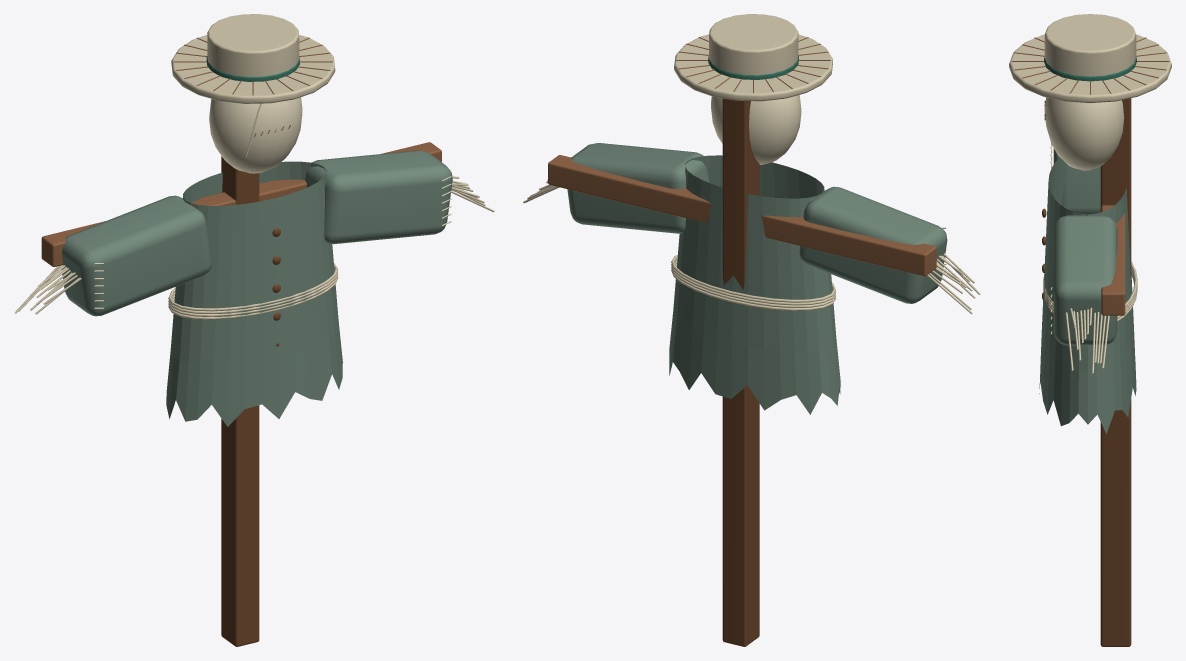
The model's file is FieldScarecrow.fbx.
3 views of the same model, side by side, from view 1: azimuth 30°, elevation 25°; view 2: azimuth 150°, elevation 25°; view 3: azimuth 270°, elevation 25° (orthographic). The views are drawn at different scales.
Parts seen in each view (by area): view 1: Scarecrow / empty green coat, Scarecrow / folded coat sleeve, Scarecrow / folded coat sleeve.001, Scarecrow / weathered upright, Scarecrow / stuffed linen head, Scarecrow / straw hat brim, Scarecrow / hat crown, Scarecrow / timber crossarm; view 2: Scarecrow / empty green coat, Scarecrow / weathered upright, Scarecrow / timber crossarm, Scarecrow / folded coat sleeve, Scarecrow / folded coat sleeve.001, Scarecrow / straw hat brim, Scarecrow / hat crown, Scarecrow / stuffed linen head, Scarecrow / binding rope.003; view 3: Scarecrow / empty green coat, Scarecrow / weathered upright, Scarecrow / folded coat sleeve.001, Scarecrow / straw hat brim, Scarecrow / hat crown, Scarecrow / stuffed linen head, Scarecrow / folded coat sleeve, Scarecrow / timber crossarm, Scarecrow / faded hat band.
Boxes of the visible parts, x1,y1,x2,y2 form: Scarecrow / empty green coat: [166, 161, 342, 426]; Scarecrow / folded coat sleeve: [62, 195, 211, 316]; Scarecrow / folded coat sleeve.001: [305, 150, 452, 244]; Scarecrow / weathered upright: [221, 156, 259, 646]; Scarecrow / stuffed linen head: [209, 97, 302, 173]; Scarecrow / straw hat brim: [171, 35, 335, 103]; Scarecrow / hat crown: [207, 14, 299, 76]; Scarecrow / timber crossarm: [41, 142, 441, 266]; Scarecrow / empty green coat: [669, 155, 840, 414]; Scarecrow / weathered upright: [722, 98, 759, 646]; Scarecrow / timber crossarm: [548, 155, 936, 276]; Scarecrow / folded coat sleeve: [799, 186, 947, 303]; Scarecrow / folded coat sleeve.001: [567, 143, 709, 233]; Scarecrow / straw hat brim: [674, 34, 832, 101]; Scarecrow / hat crown: [709, 14, 798, 75]; Scarecrow / stuffed linen head: [711, 95, 801, 164]; Scarecrow / binding rope.003: [671, 255, 835, 302]; Scarecrow / empty green coat: [1039, 158, 1136, 433]; Scarecrow / weathered upright: [1100, 98, 1131, 646]; Scarecrow / folded coat sleeve.001: [1053, 215, 1117, 345]; Scarecrow / straw hat brim: [1009, 34, 1171, 103]; Scarecrow / hat crown: [1044, 14, 1136, 76]; Scarecrow / stuffed linen head: [1044, 97, 1124, 170]; Scarecrow / folded coat sleeve: [1053, 148, 1100, 214]; Scarecrow / timber crossarm: [1101, 205, 1125, 315]; Scarecrow / faded hat band: [1044, 57, 1136, 81].
Size of the model in its own units: 209 by 265 by 64.
